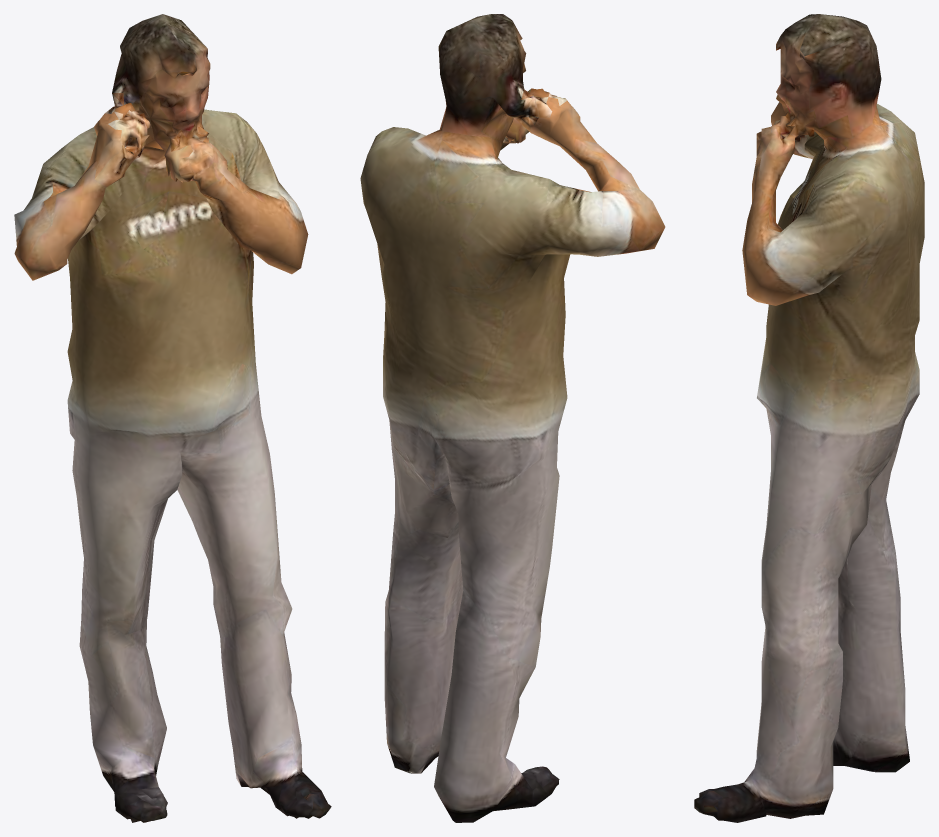
Rendered from casual8.obj.
The picture shows the model from 3 angles, left to right: view 1: azimuth 30°, elevation 25°; view 2: azimuth 150°, elevation 25°; view 3: azimuth 270°, elevation 25°; orthographic projection. The views are drawn at different scales.
Parts seen in each view (by area): view 1: lwpg0004_; view 2: lwpg0004_; view 3: lwpg0004_.
Boxes of the visible parts, x1,y1,x2,y2 form: lwpg0004_: (14, 14, 331, 822); lwpg0004_: (360, 14, 665, 822); lwpg0004_: (694, 14, 924, 822).
Bounding box in the file's own units: 0.64 × 1.75 × 0.48.
1 material, 1 textured.
